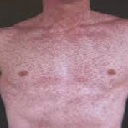Measles: (15, 34, 95, 67), (39, 76, 88, 121), (97, 27, 128, 56)
